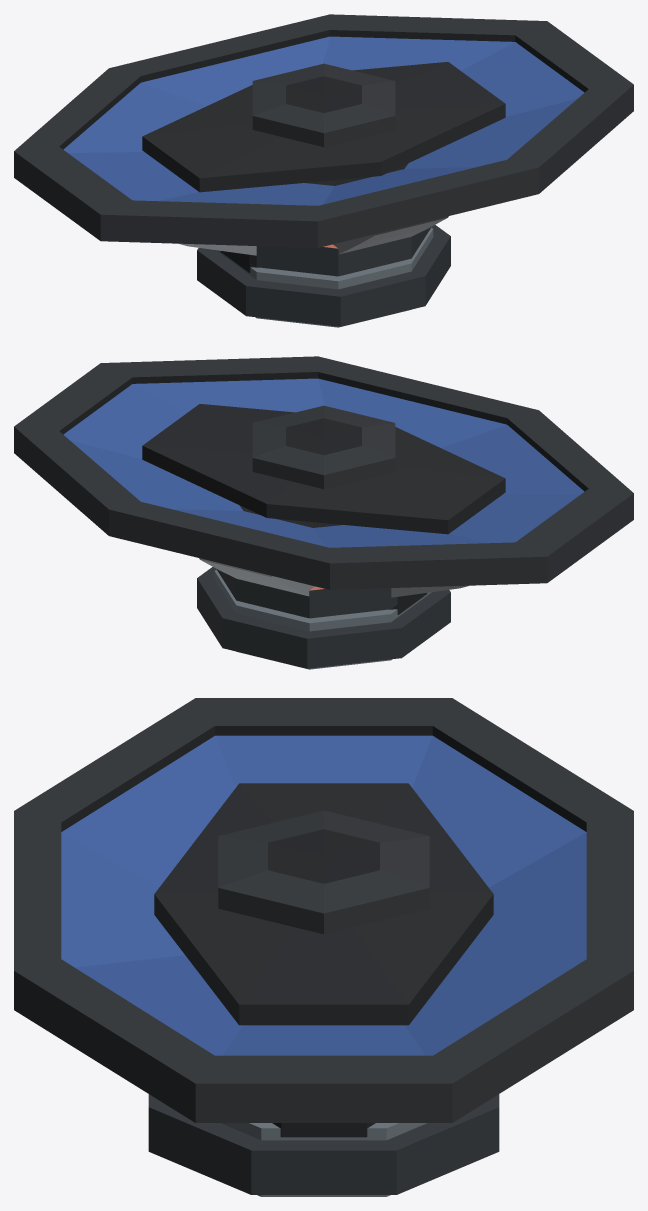
The model's file is SM_Prop_SpeakerOval_01.fbx.
3 views of the same model, one above another, from view 1: azimuth 30°, elevation 25°; view 2: azimuth 150°, elevation 25°; view 3: azimuth 270°, elevation 25° (orthographic). The views are drawn at different scales.
Parts seen in each view (by area): view 1: SM_Prop_SpeakerOval_01; view 2: SM_Prop_SpeakerOval_01; view 3: SM_Prop_SpeakerOval_01.
Boxes of the visible parts, x1,y1,x2,y2 form: SM_Prop_SpeakerOval_01: (14,14,633,327); SM_Prop_SpeakerOval_01: (14,356,633,669); SM_Prop_SpeakerOval_01: (14,698,633,1196).
Size of the model in its own units: 42.24 by 14.2 by 28.7.
